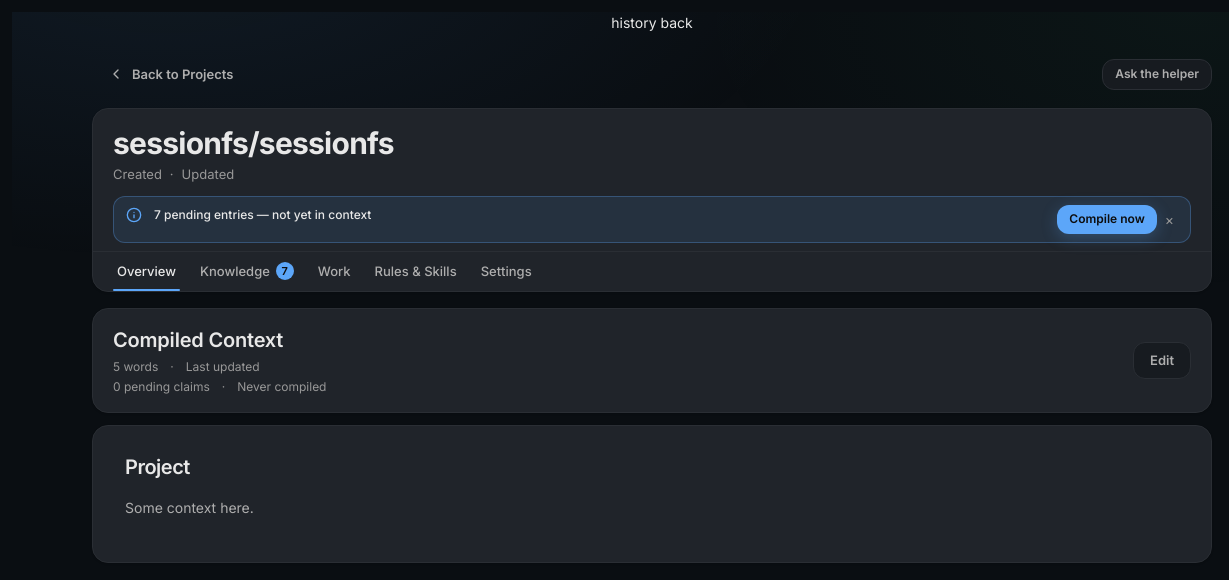
Test: ProjectDetail › puts the pending count on the Knowledge tab and the Entries sub-tab
The width and height of the screenshot is (1229, 580).
Click the tab "Knowledge 7": {"x": 247, "y": 271} [196,252,298,290]
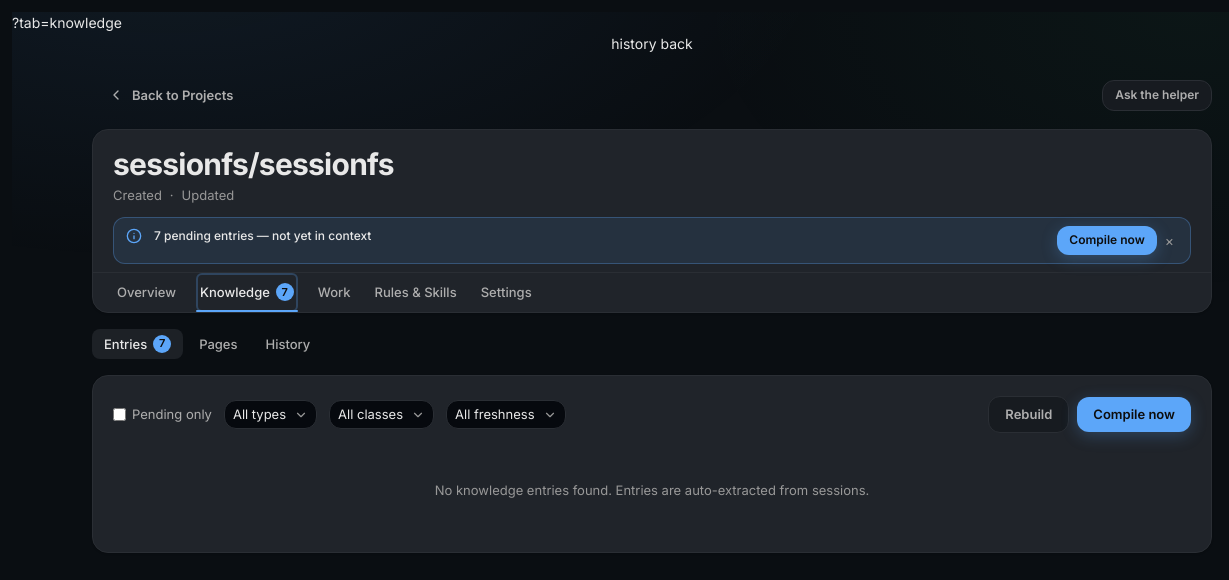
Result: the tab "Entries 7" is shown at [92,328,183,359]
